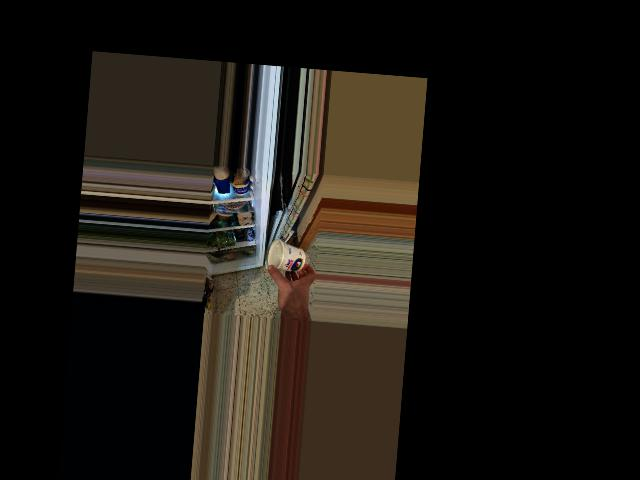cotage: (264, 237, 308, 279)
